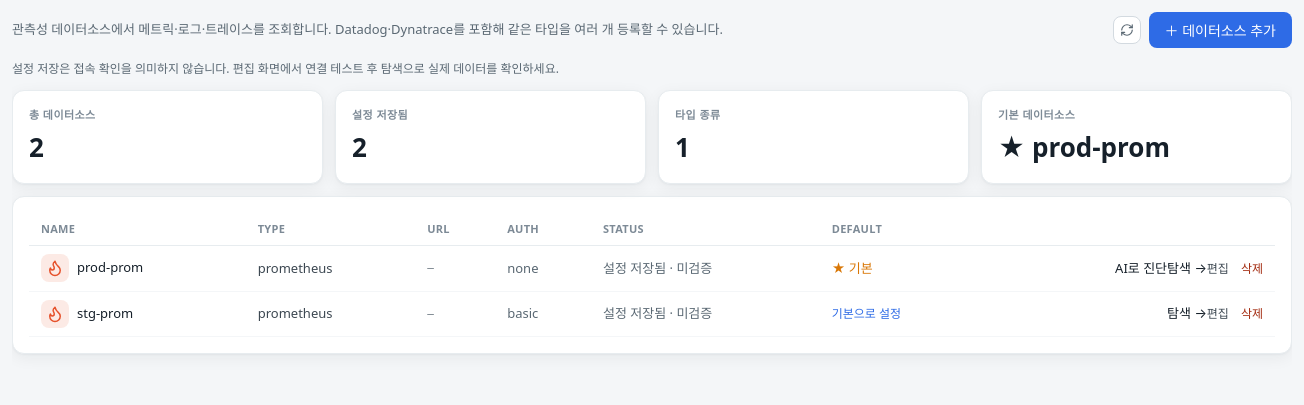
Test: DatasourcesTab › keeps the row and reports a failed delete
The width and height of the screenshot is (1304, 405).
Expected: the text "prod-prom" is shown, [41,254,143,282]
Step 1. Click the button "삭제" in the row of "AI로 진단" → [1252, 268], box [1241,260,1263,278]
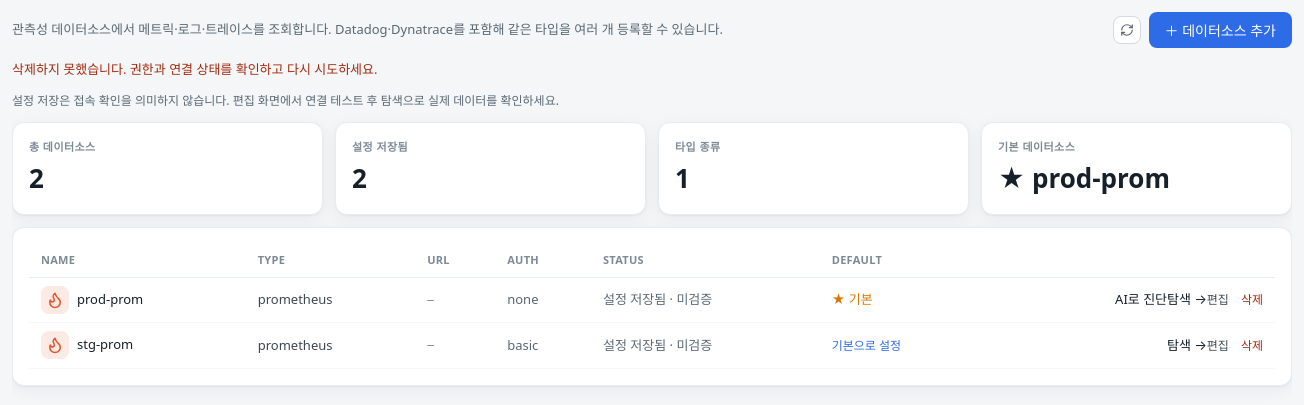
Expected: the text "prod-prom" is shown, [41,286,143,314]
Now the message "삭제하지 못했습니다. 권한과 연결 상태를 확인하고 다시 시도하세요." is shown, box [12,60,378,78]
